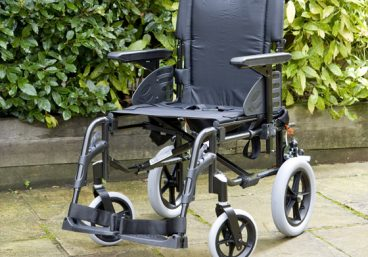wheelchair: (60, 1, 313, 256)
